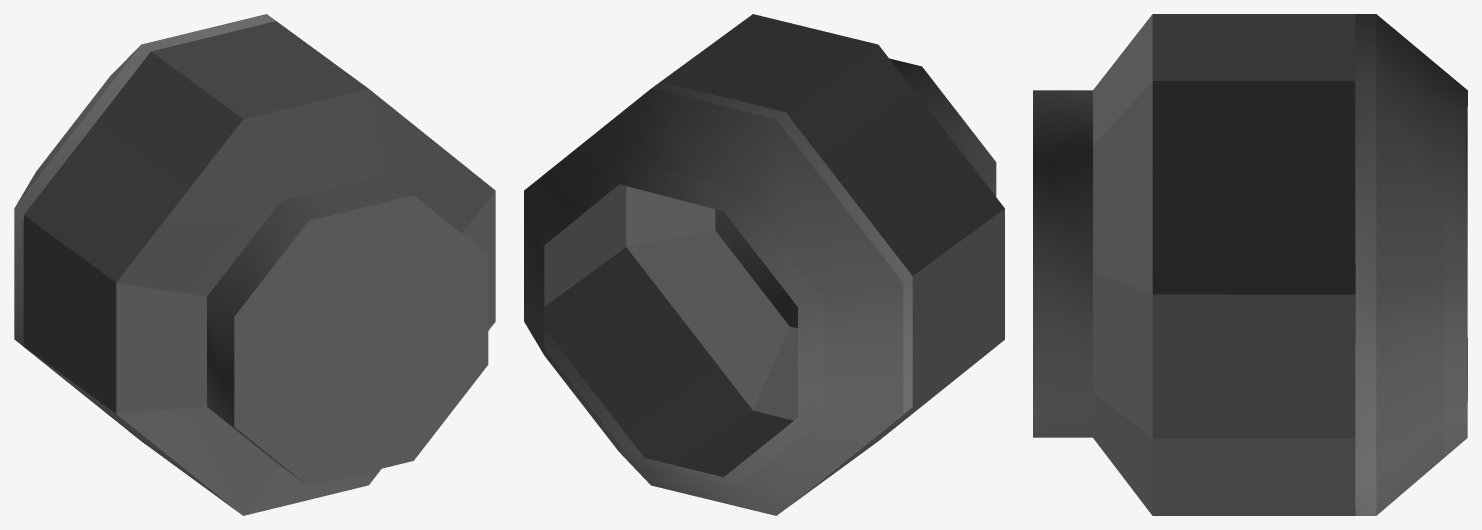
Rendered from stat_connector0.glb.
3 renders of one model, left to right at view 1: azimuth 30°, elevation 25°; view 2: azimuth 150°, elevation 25°; view 3: azimuth 270°, elevation 25°, orthographic. The views are drawn at different scales.
Visible parts, largest first — view 1: group_19; view 2: group_19; view 3: group_19.
Boxes of the visible parts, box(x1,y1,x2,y2) form: group_19: box(14, 14, 495, 515); group_19: box(524, 14, 1004, 515); group_19: box(1033, 14, 1467, 515).
Size of the model in its own units: 11306 by 11305 by 10239.
2 materials, 2 textured.
